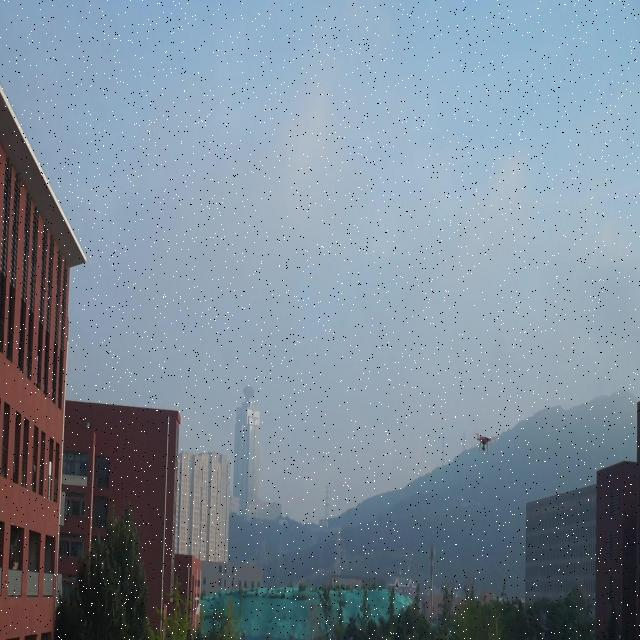UAV: (471, 433, 498, 454)
